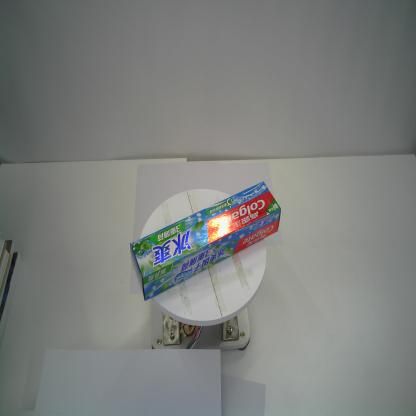Personal Hygiene: (128, 180, 283, 304)
